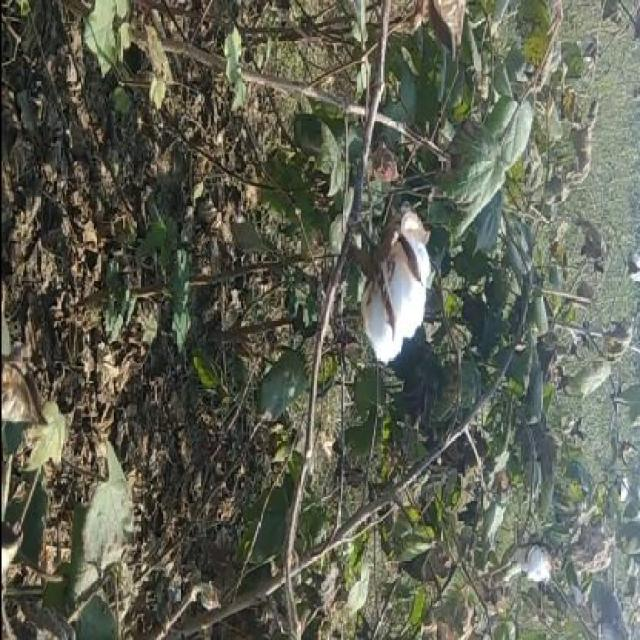cotton_ready: (321, 192, 430, 366)
